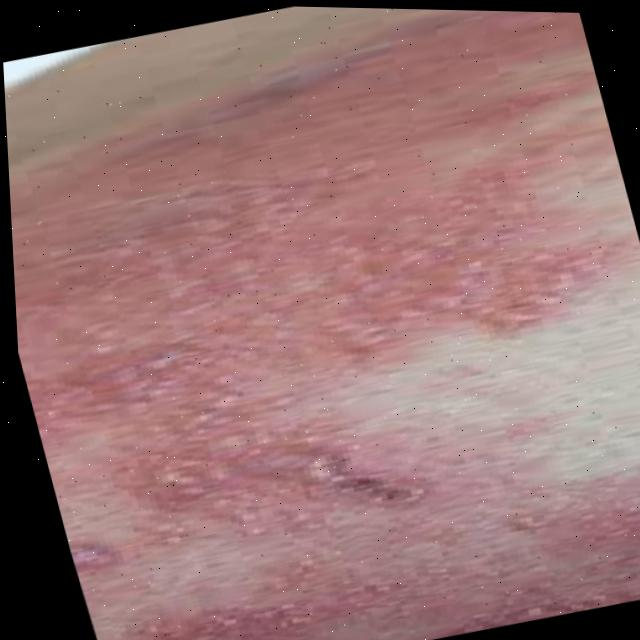Shingles: (2, 30, 640, 640)
